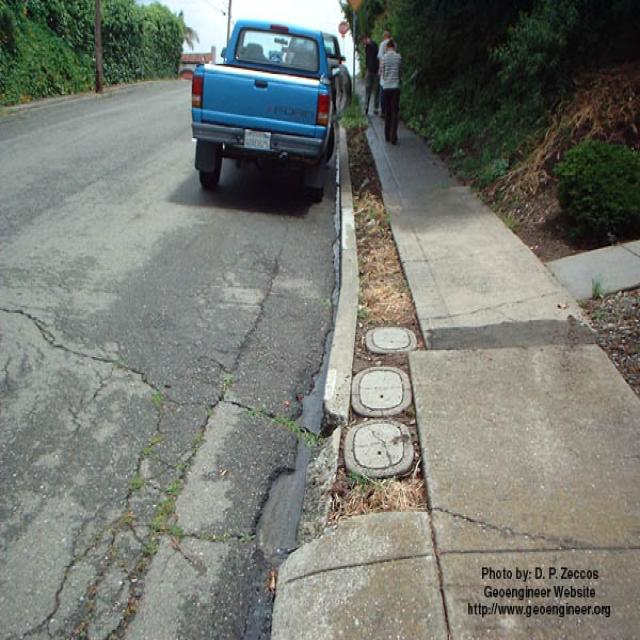Pothole: (67, 162, 449, 636)
